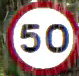Speed limit: (7, 0, 78, 74)
